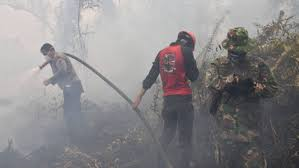smoke: (2, 19, 32, 105), (98, 13, 139, 75)
